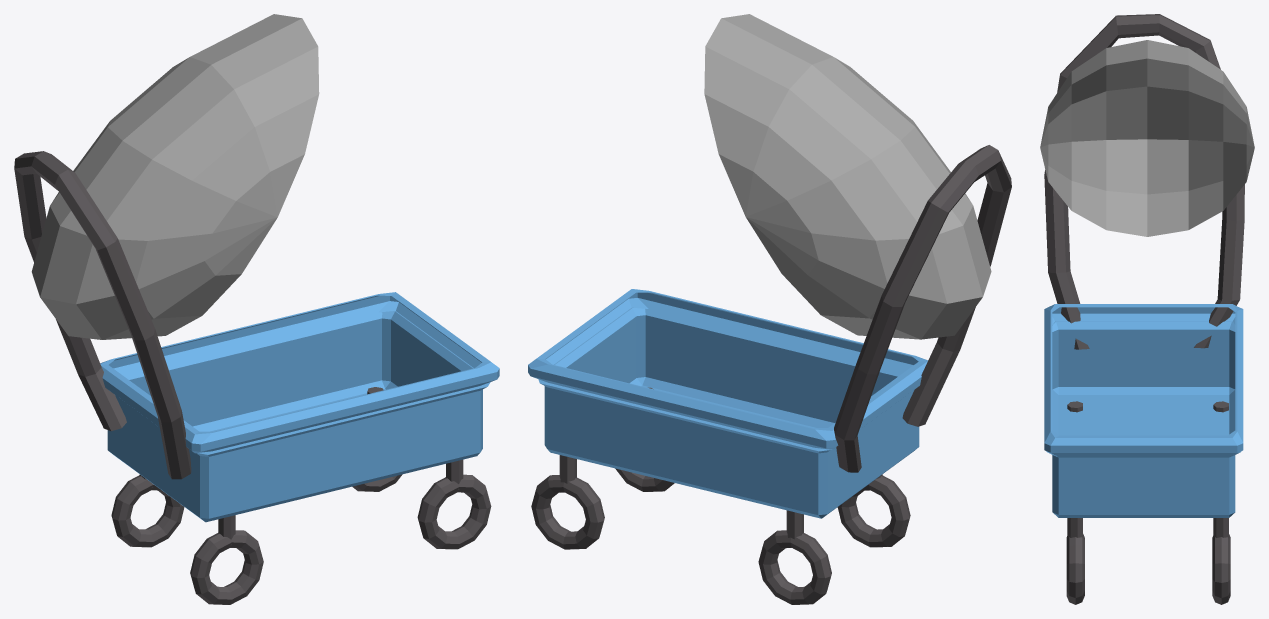
File: Stroller.fbx
3 views of the same model, side by side, from view 1: azimuth 30°, elevation 25°; view 2: azimuth 150°, elevation 25°; view 3: azimuth 270°, elevation 25° (orthographic). The views are drawn at different scales.
Visible parts, largest first — view 1: Cube.009; view 2: Cube.009; view 3: Cube.009.
Boxes of the visible parts, x1=… form: Cube.009: x1=14, y1=14, x2=499, y2=604; Cube.009: x1=528, y1=14, x2=1011, y2=604; Cube.009: x1=1040, y1=14, x2=1254, y2=604.
Bounding box in the file's own units: 386 × 473 × 187.
